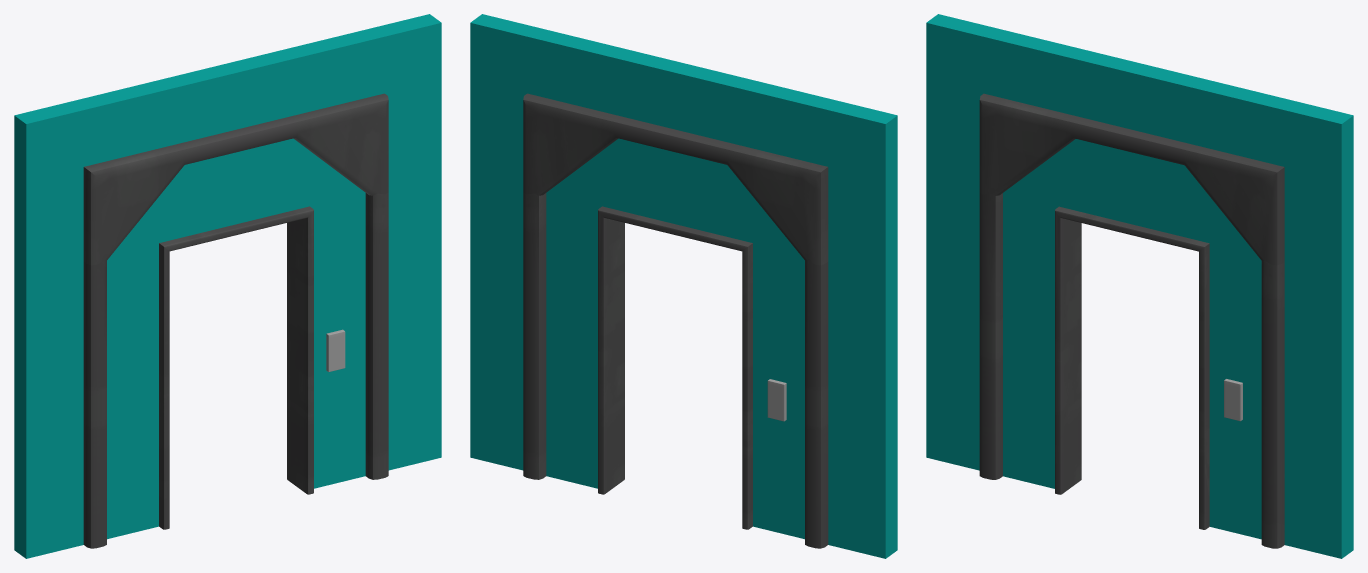
File: En_W_wallDoor.fbx
The picture shows the model from 3 angles, left to right: view 1: azimuth 30°, elevation 25°; view 2: azimuth 150°, elevation 25°; view 3: azimuth 330°, elevation 25°; orthographic projection.
Visible parts, largest first — view 1: En_W_wallDoor6; view 2: En_W_wallDoor6; view 3: En_W_wallDoor6.
Part boxes in pixels (left/top/right/bottom): En_W_wallDoor6: left=14, top=14, right=441, bottom=558; En_W_wallDoor6: left=470, top=14, right=897, bottom=558; En_W_wallDoor6: left=926, top=14, right=1353, bottom=558.
Bounding box in the file's own units: 400 × 400 × 41.96.
